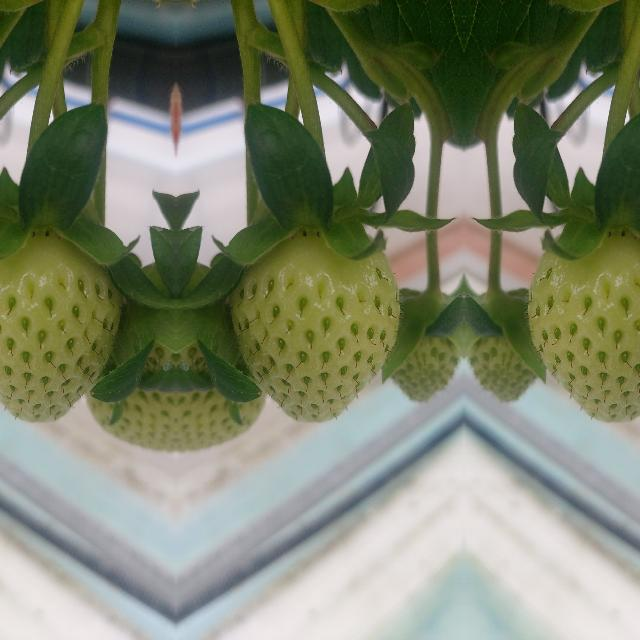Health_25: (228, 232, 398, 422), (0, 232, 122, 422), (527, 232, 640, 422), (175, 256, 275, 454), (75, 256, 175, 454), (385, 292, 463, 406), (463, 292, 541, 406)
